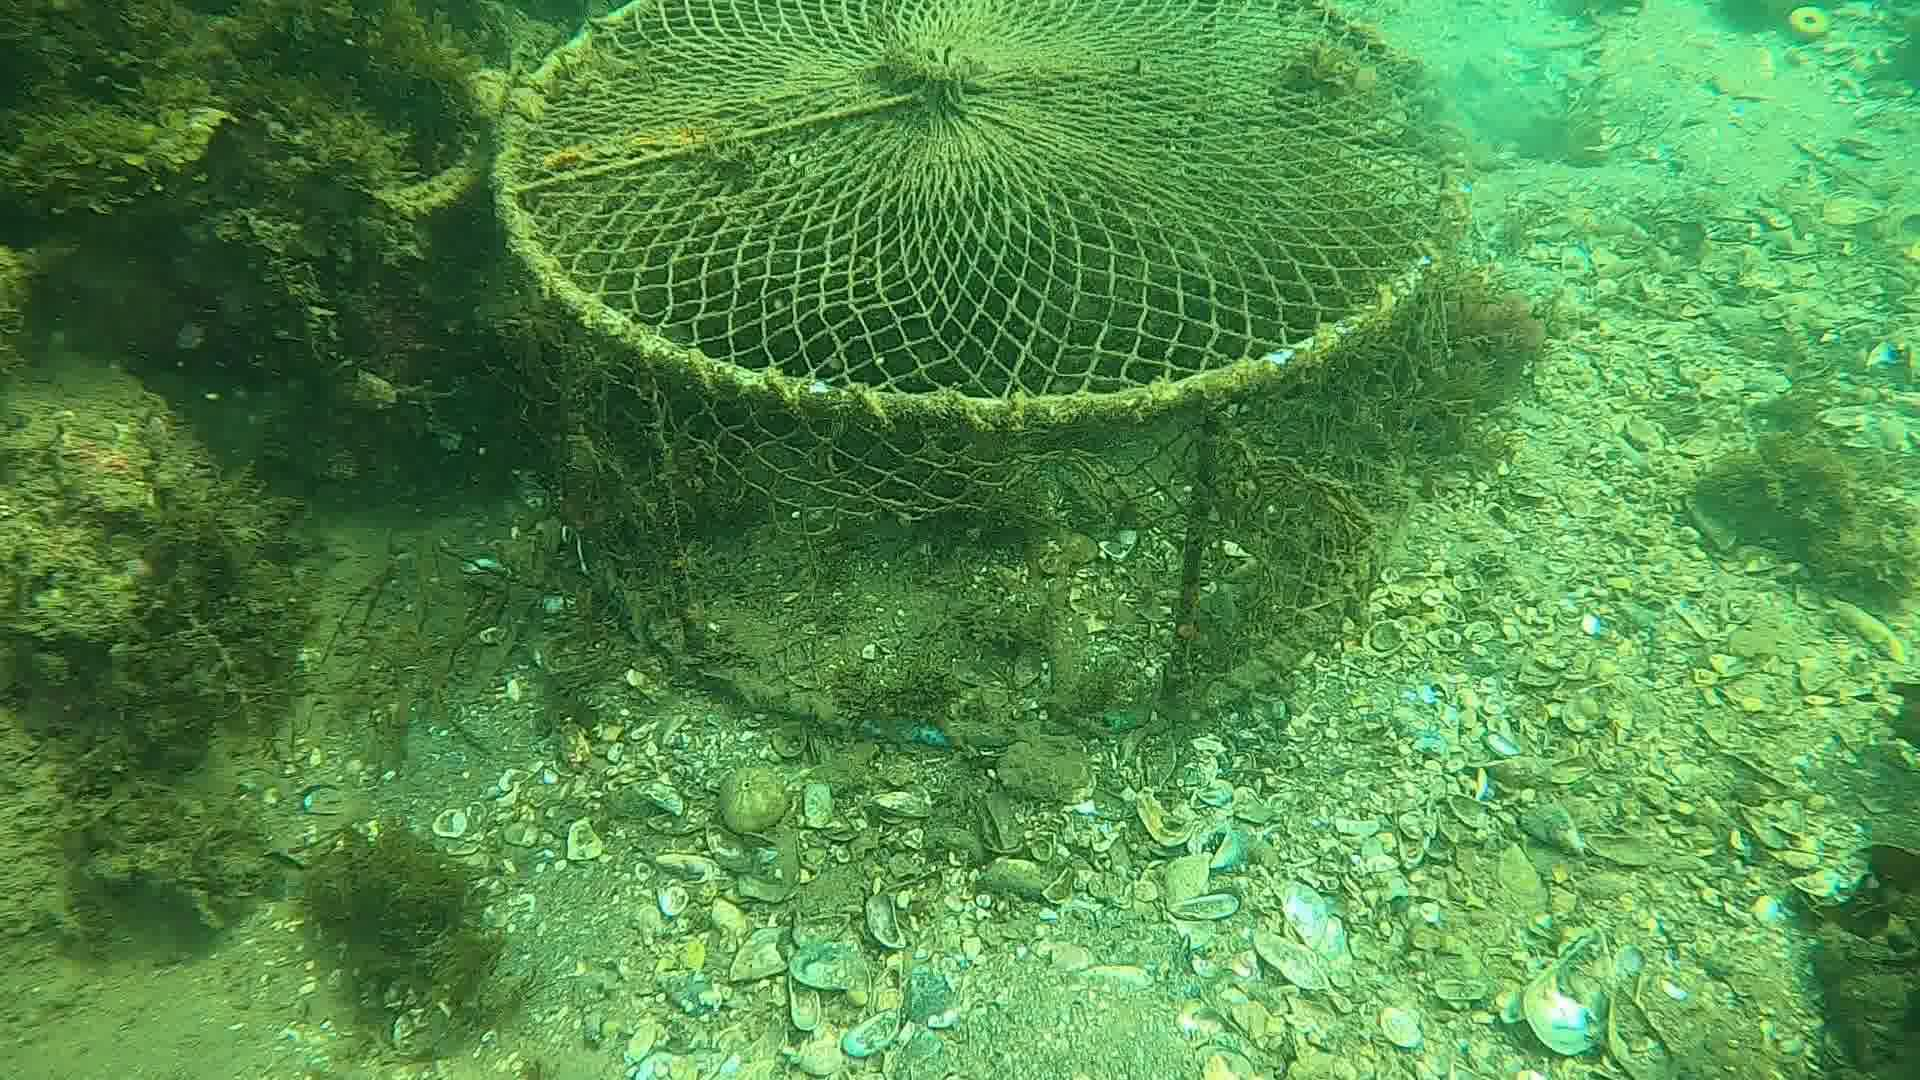circular fish trap: (485, 0, 1470, 746)
